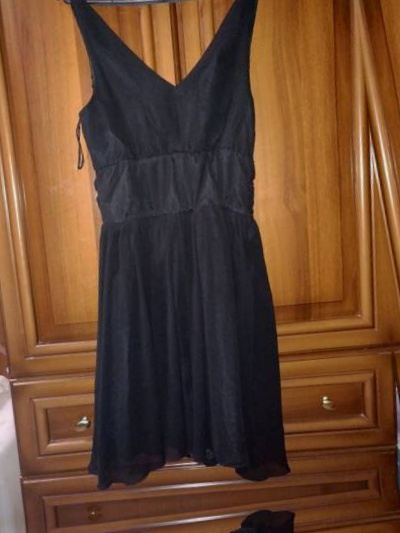Dress: (4, 0, 357, 509), (60, 495, 400, 533), (400, 0, 400, 468)
